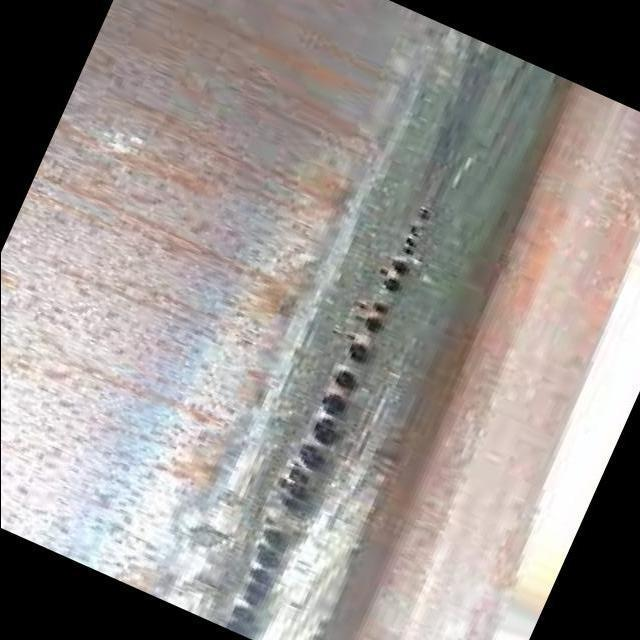defect: (221, 298, 391, 639), (374, 199, 433, 299)
